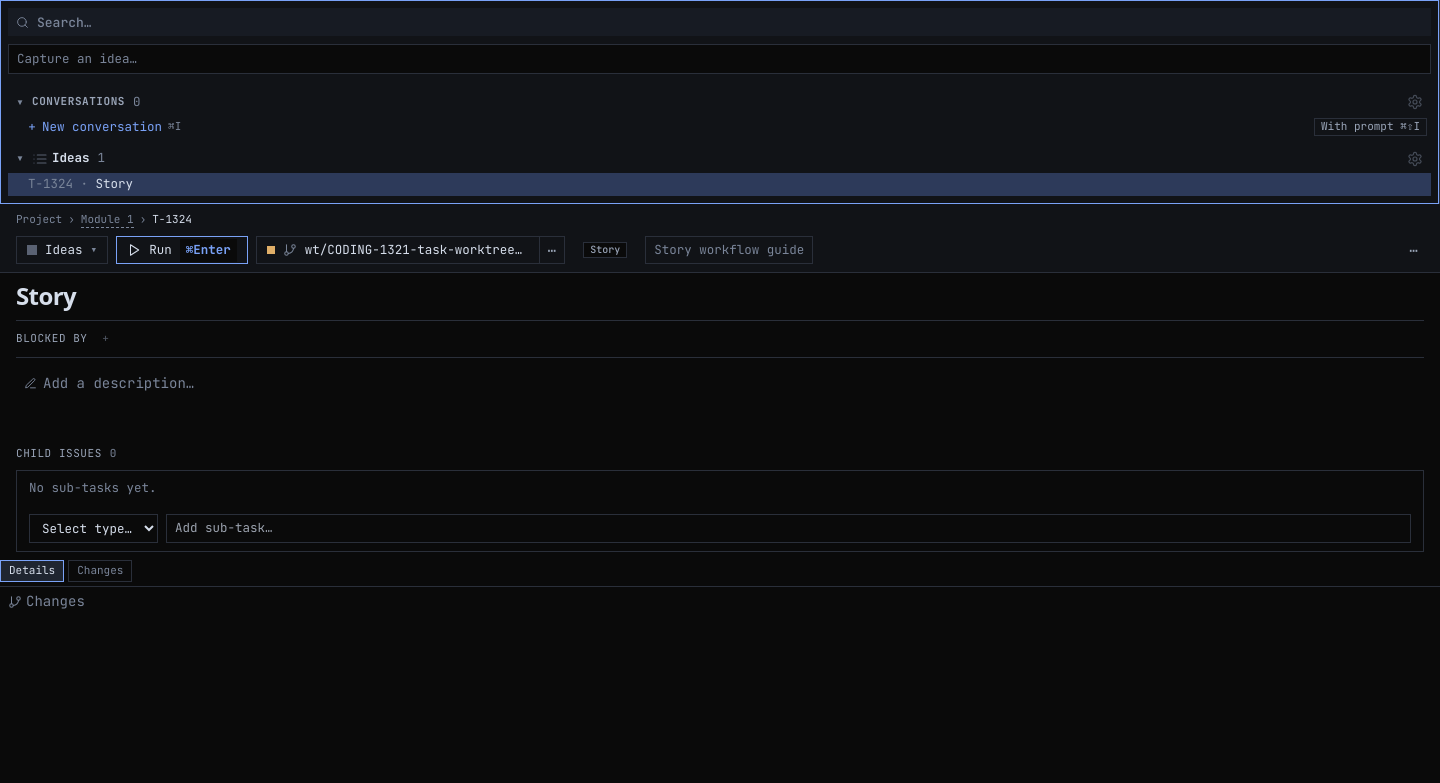
Test: overhaul acceptance - stacked task pull requests › [overhaul-405] retries PR creation after the stack commits and pushes successfully
The image size is (1440, 783).
Click the tab "Changes".
click(100, 571)  # box 68,560 -> 132,582
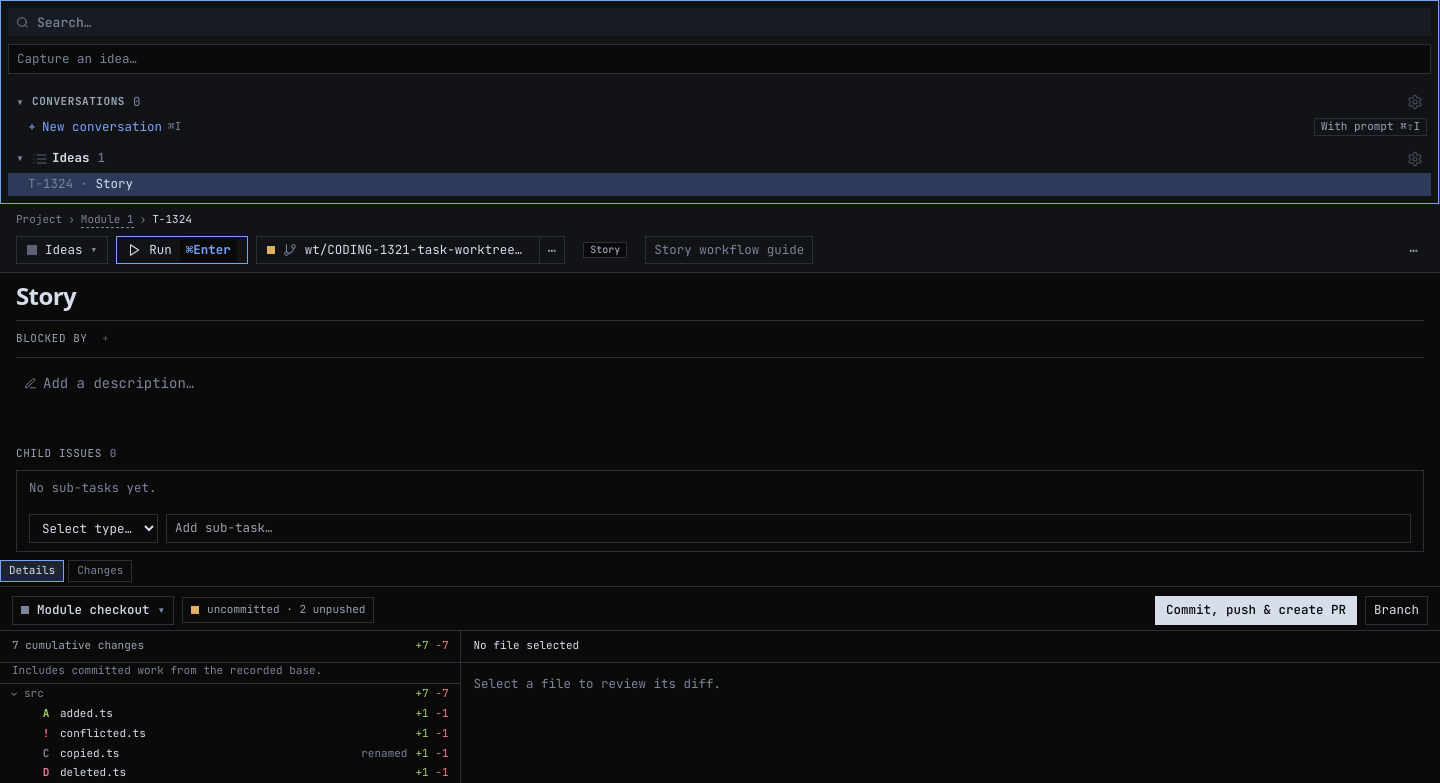
Click the button "Branch".
click(1396, 610)  # box 1365,596 -> 1428,625
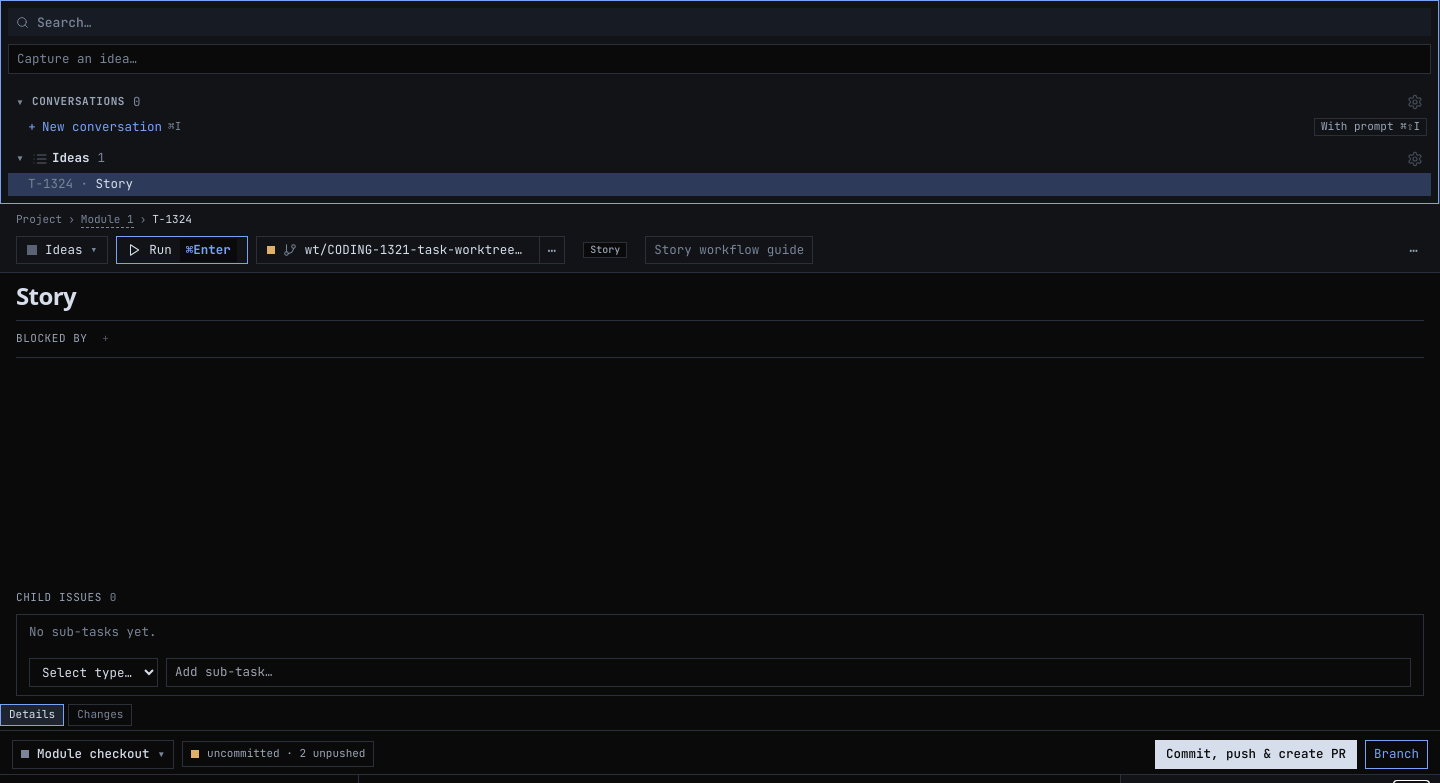
Click the button "Commit, push & create PR".
click(1256, 754)  # box 1155,740 -> 1357,769
(page scrolled)
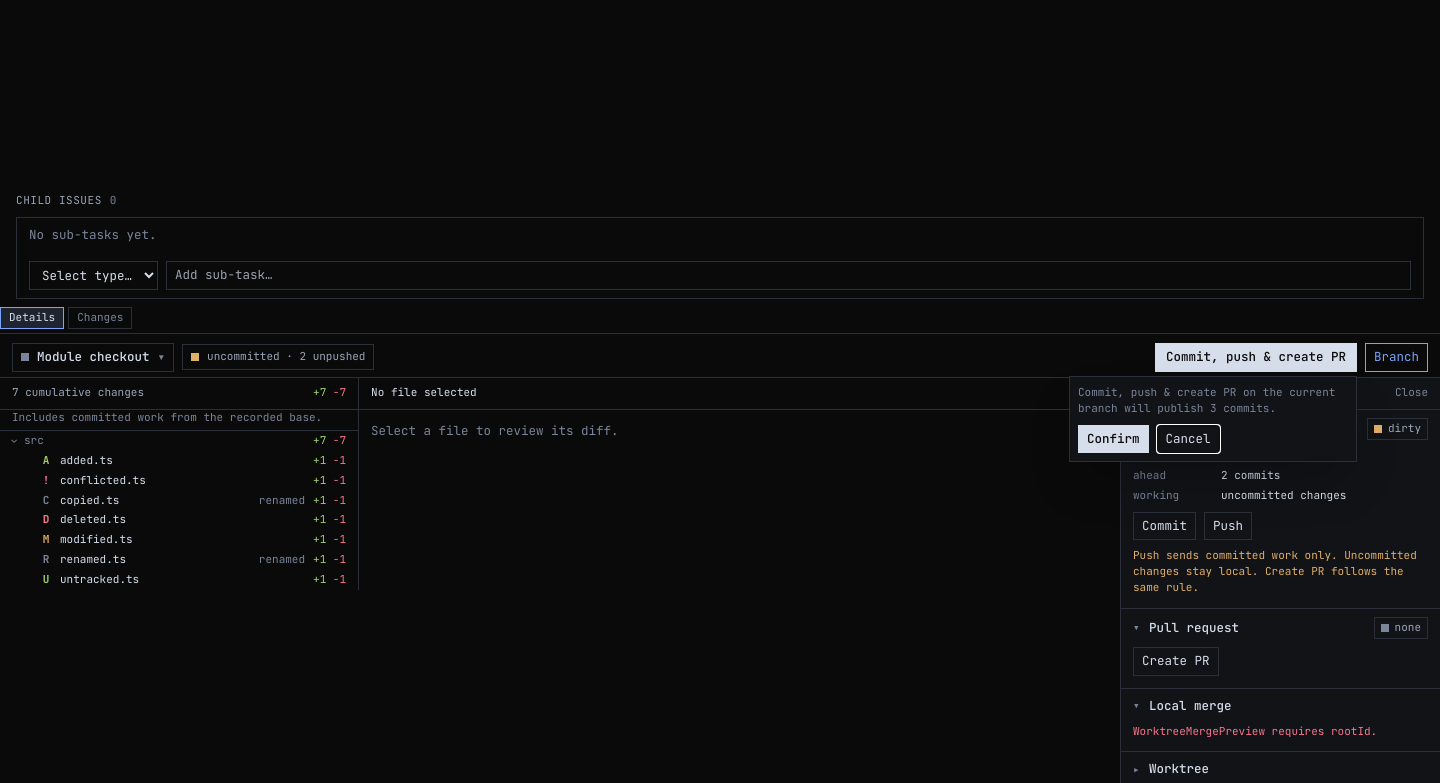
Click the button "Confirm".
click(1113, 439)  # box 1078,424 -> 1148,453
(page scrolled)
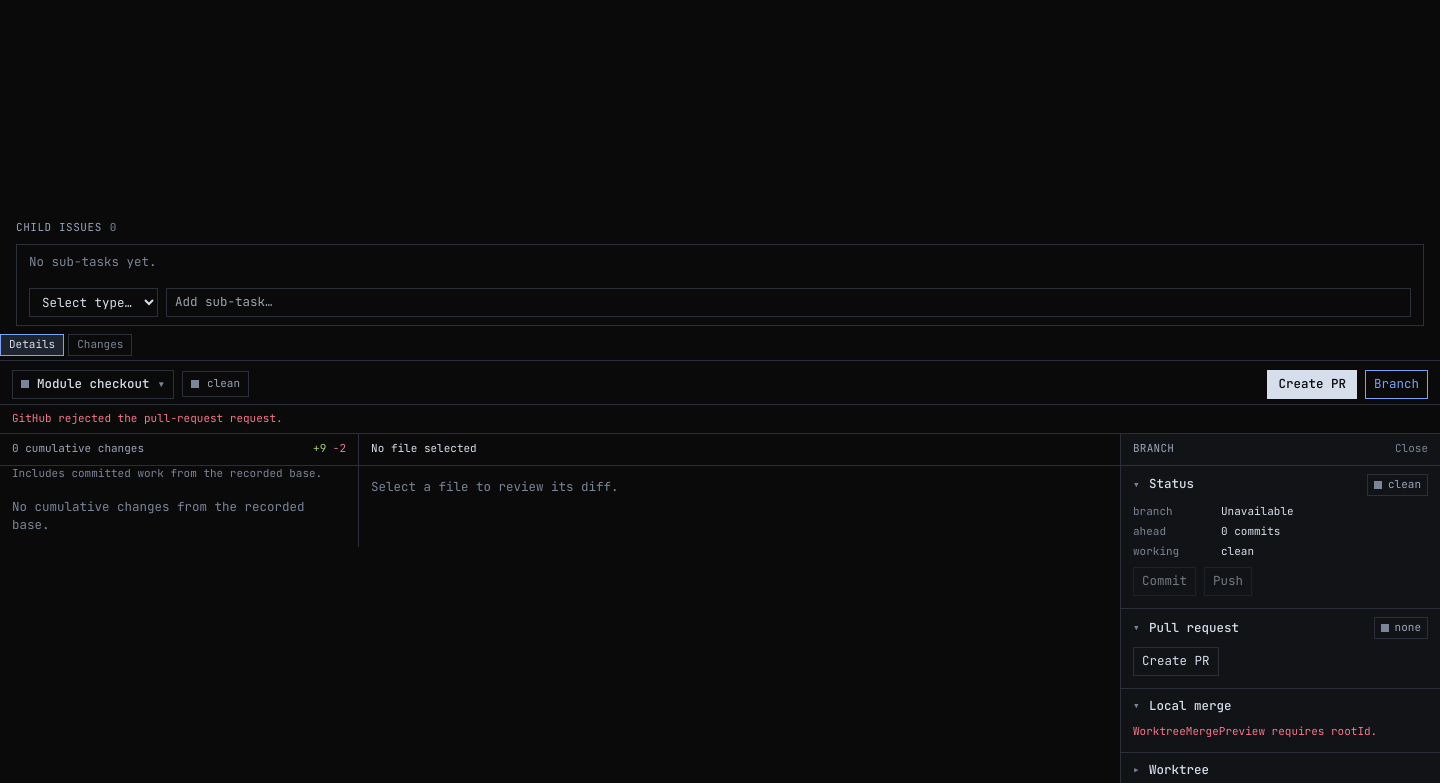
Now the button "Create PR" below "Pull request" is enabled
Click the button "Create PR" below "Pull request".
click(1176, 662)  # box 1133,647 -> 1218,676
(page scrolled)
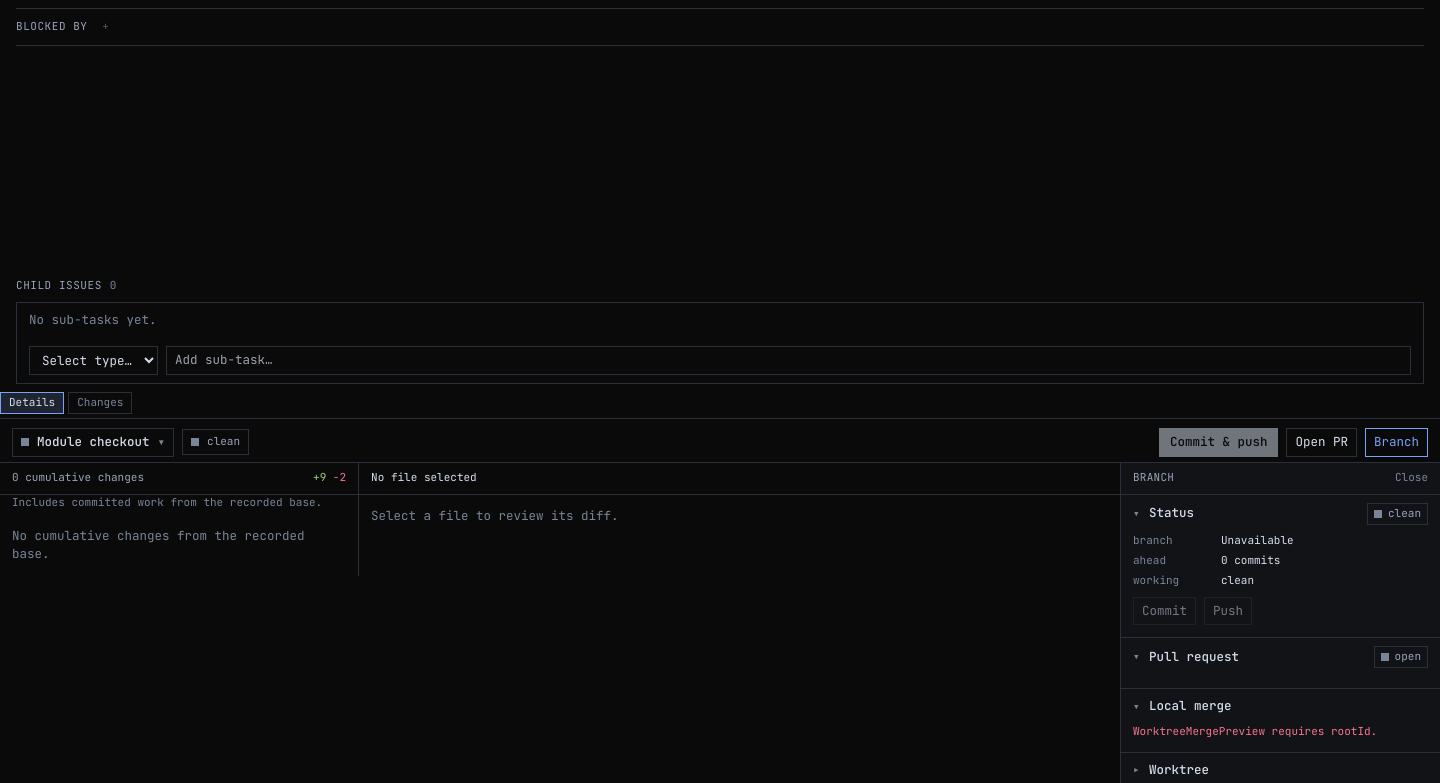
Now the button "Create PR" is gone
Now the button "Commit & push" is disabled, box 1159,428 -> 1278,457
